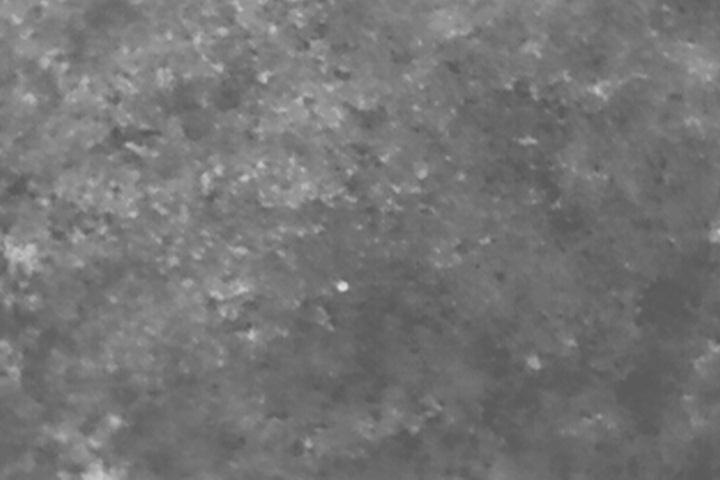landmine: (337, 280, 350, 293)
